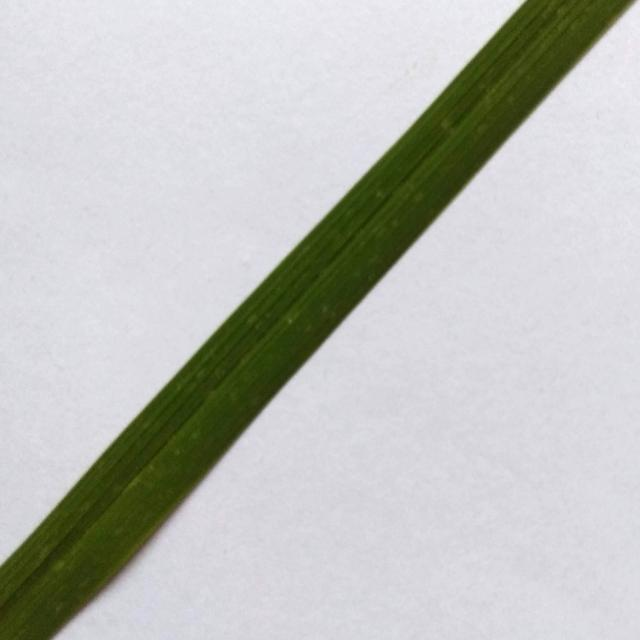Rice_Healthy: (0, 0, 634, 640)
